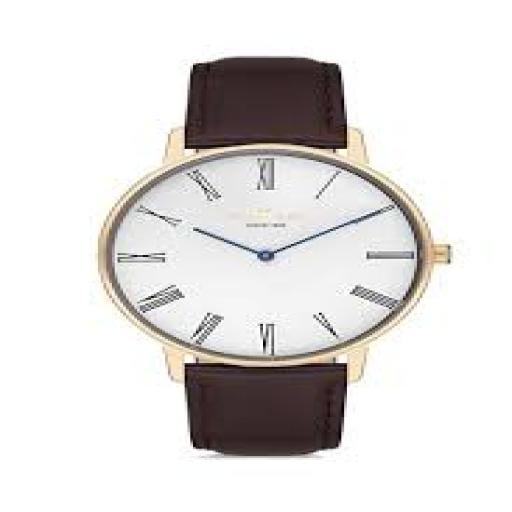KolSaati: (78, 38, 474, 464)
